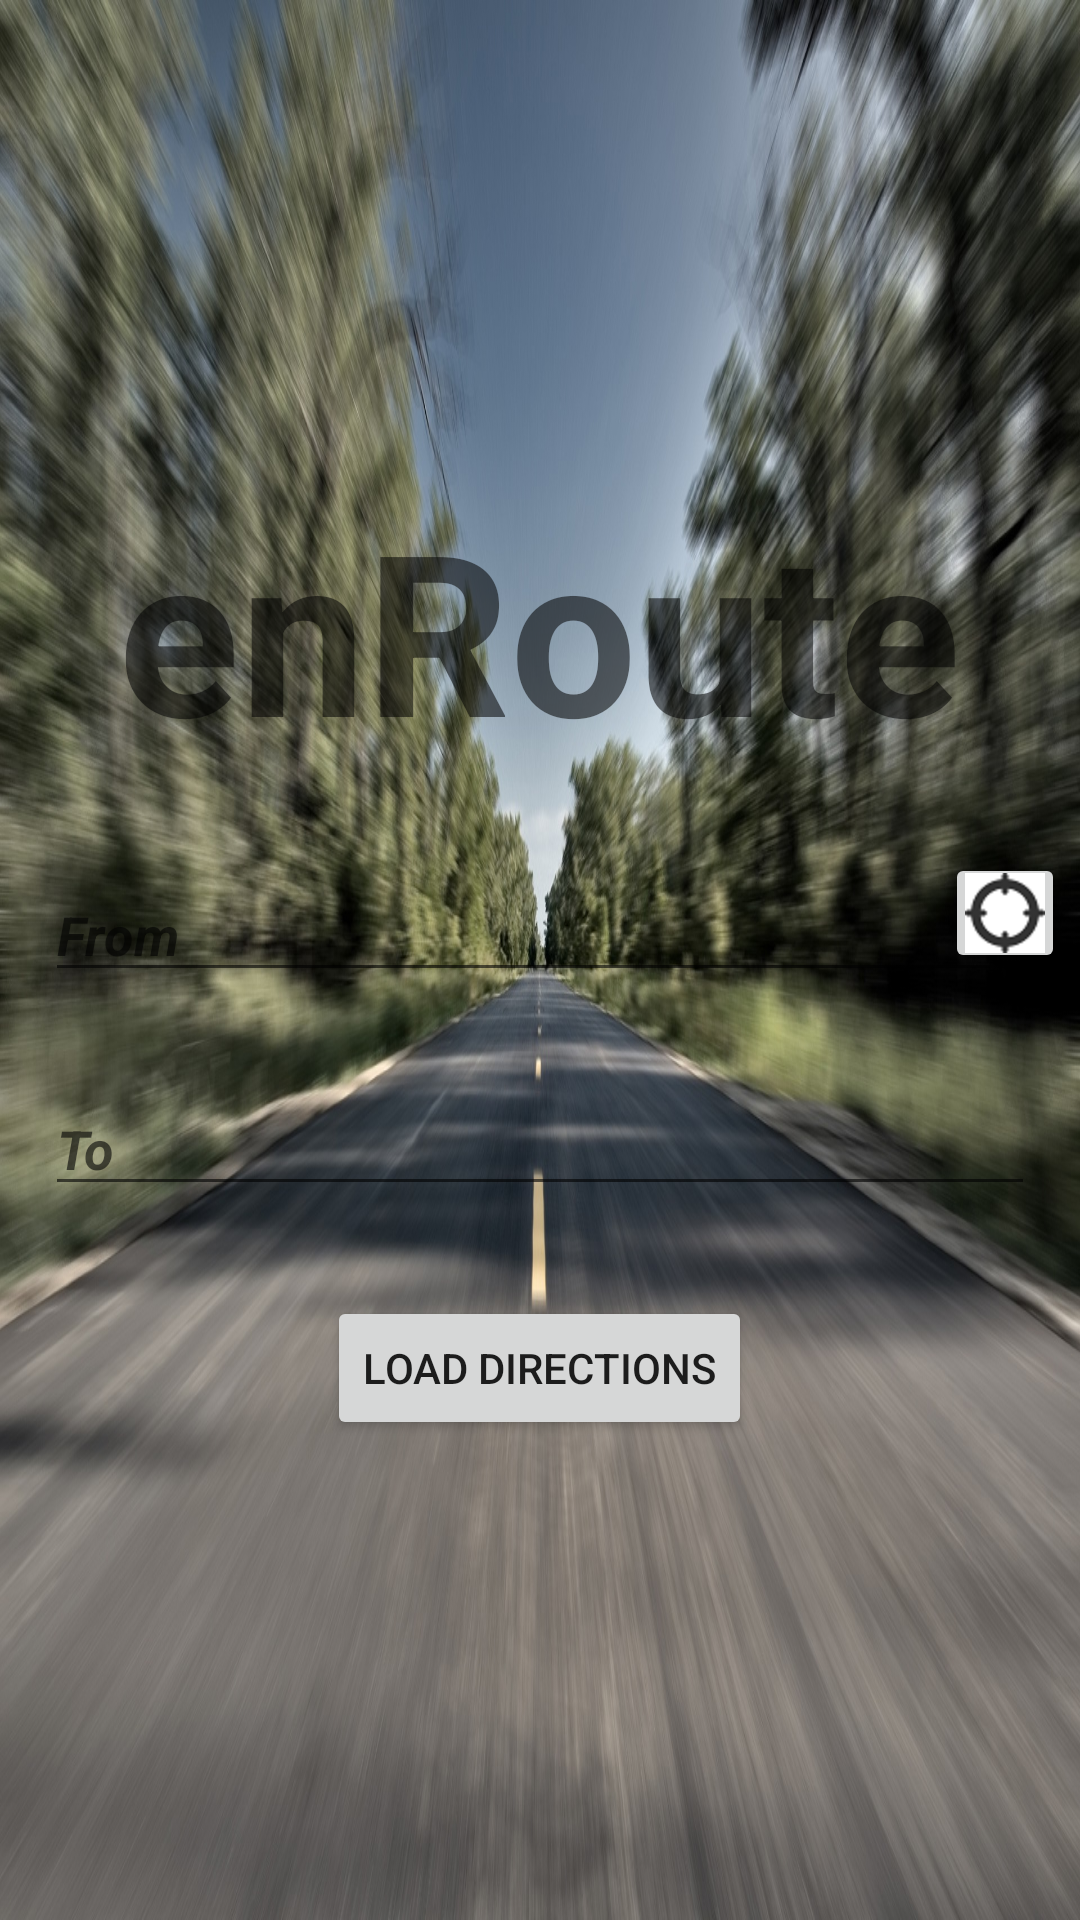

Icon click points for this 1080px x 1920px phone screenshot, format point (x, y):
location: point (1005, 904)
